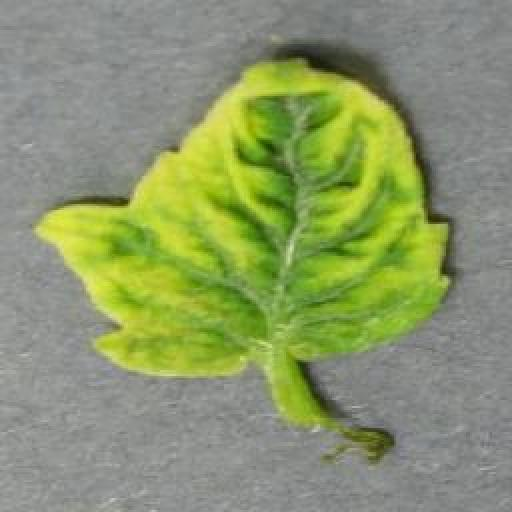disease_tomato: (37, 57, 456, 376)
